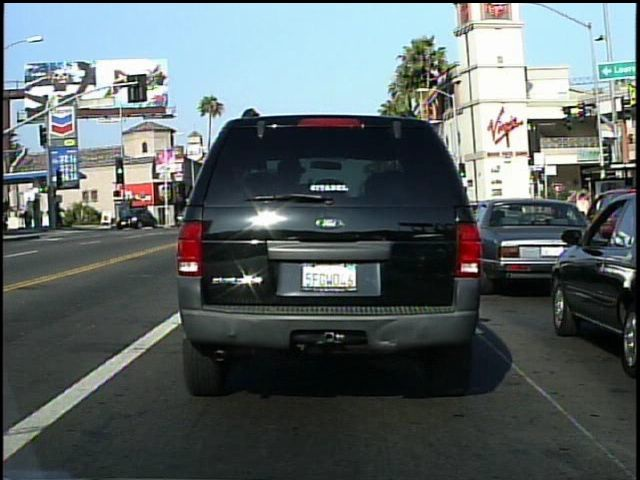person: (575, 188, 595, 245)
